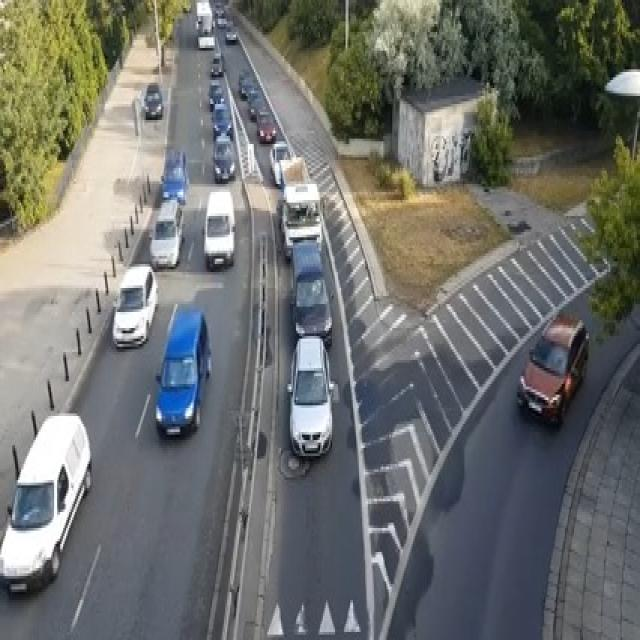car: (0, 411, 92, 597), (515, 312, 589, 427), (155, 302, 212, 438), (286, 333, 334, 459), (288, 240, 332, 344), (111, 261, 158, 347), (280, 181, 322, 259), (203, 190, 234, 270), (149, 198, 183, 270), (161, 147, 189, 205), (212, 134, 234, 182), (269, 138, 290, 186), (212, 101, 233, 139), (256, 107, 276, 141), (143, 83, 162, 117), (248, 91, 266, 120), (209, 80, 224, 109), (210, 50, 222, 74), (238, 66, 250, 90), (197, 32, 215, 48), (224, 27, 237, 42), (213, 0, 224, 16), (217, 16, 226, 27)
